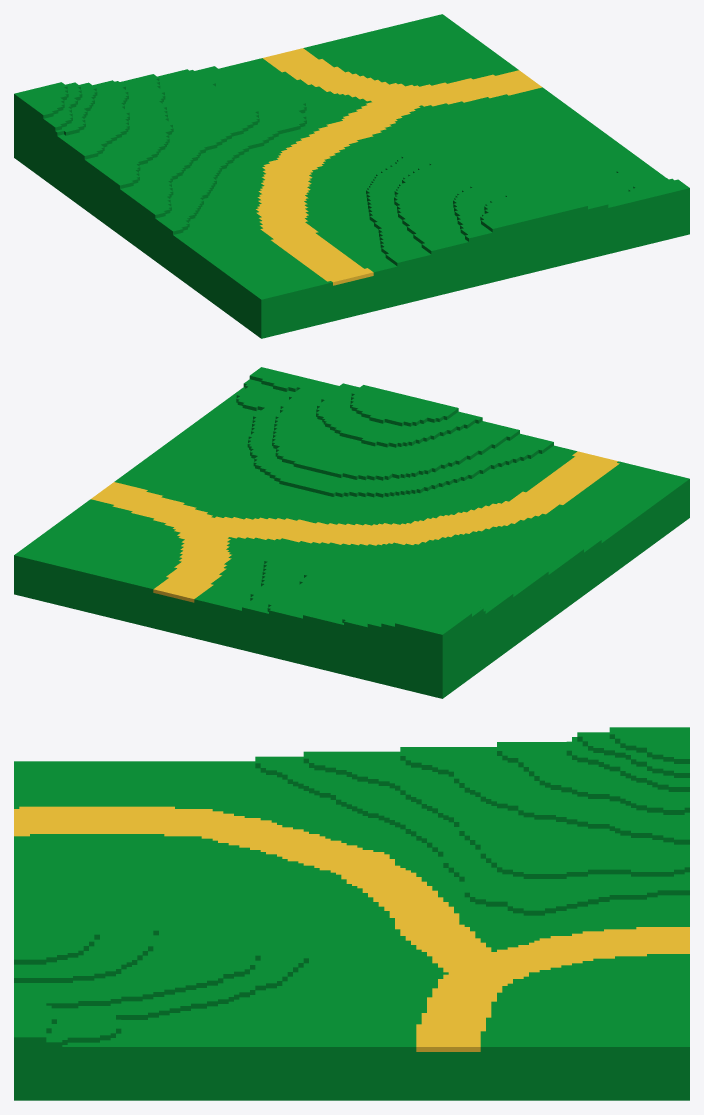
The model's file is lvl_02.obj.
3 views of the same model, one above another, from view 1: azimuth 30°, elevation 25°; view 2: azimuth 150°, elevation 25°; view 3: azimuth 270°, elevation 25° (orthographic). The views are drawn at different scales.
Bounding box in the file's own units: 12.6 × 1.8 × 12.6.
Materials: 1 (1 with a texture image).
